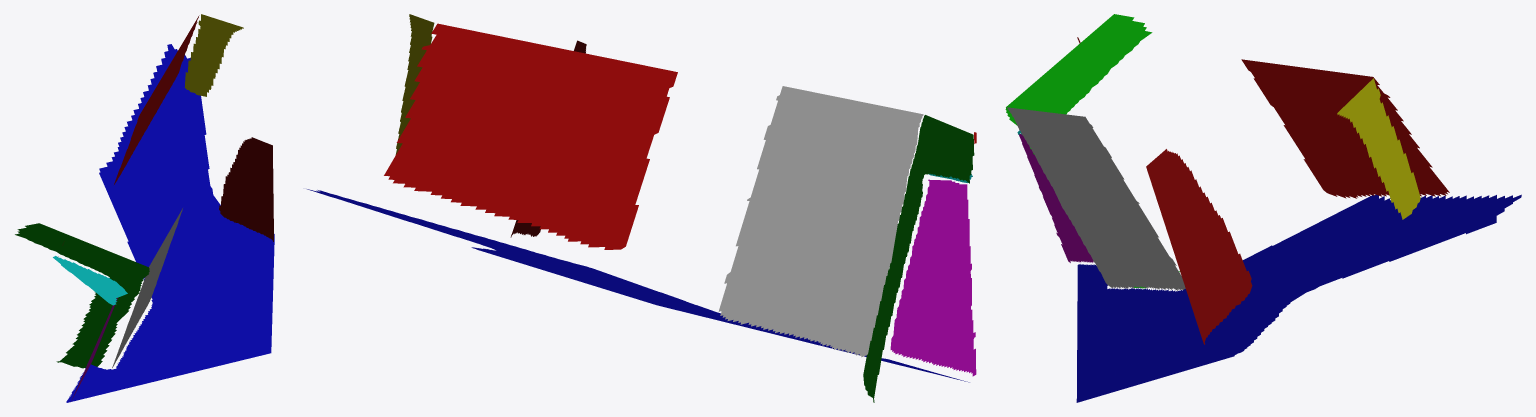
Rendered from 359_seg_predplane.glb.
3 renders of one model, left to right at view 1: azimuth 30°, elevation 25°; view 2: azimuth 150°, elevation 25°; view 3: azimuth 270°, elevation 25°, orthographic. The views are drawn at different scales.
Bounding box in the file's own units: 2.66 × 2.08 × 2.78.
